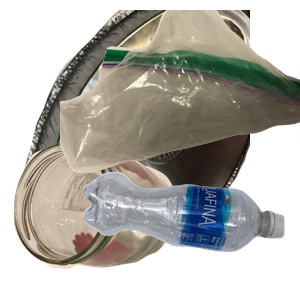glass: (11, 139, 179, 300)
metal: (18, 10, 258, 190)
plastic: (80, 169, 300, 300)
trash: (60, 10, 300, 176)
